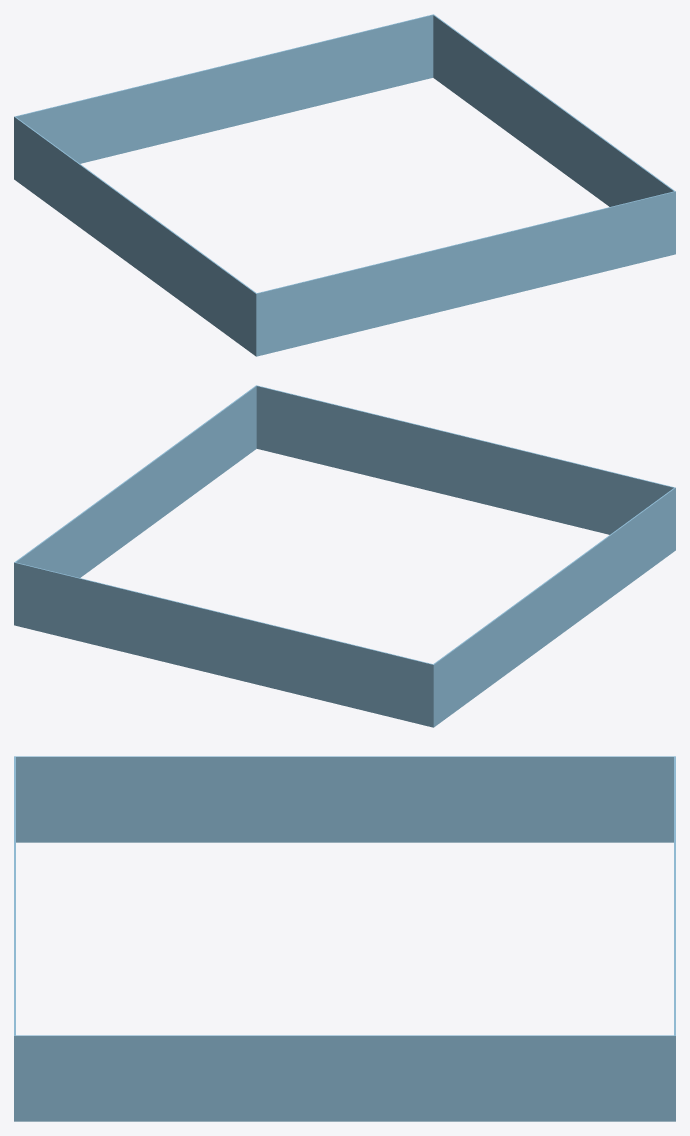
Rendered from Walls.dae.
3 renders of one model, top to bottom at view 1: azimuth 30°, elevation 25°; view 2: azimuth 150°, elevation 25°; view 3: azimuth 270°, elevation 25°, orthographic. The views are drawn at different scales.
Visible parts, largest first — view 1: ID2; view 2: ID2; view 3: ID2.
Part boxes in pixels (box(x1,y1,x2,y2)): ID2: box(14, 14, 675, 356); ID2: box(14, 385, 675, 727); ID2: box(14, 756, 675, 1121).
Bounding box in the file's own units: 35 × 35 × 5.
